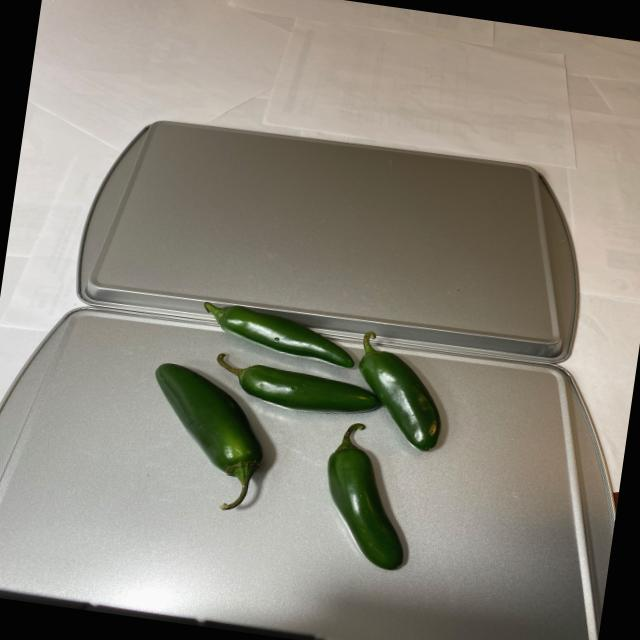chilli: (126, 284, 468, 582)
